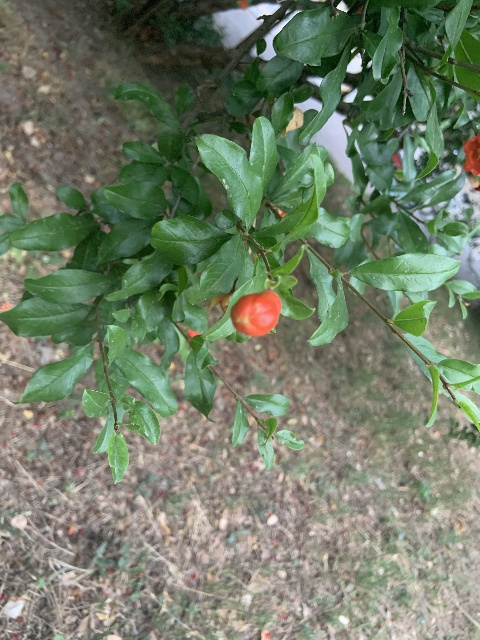bud: (230, 290, 280, 337)
